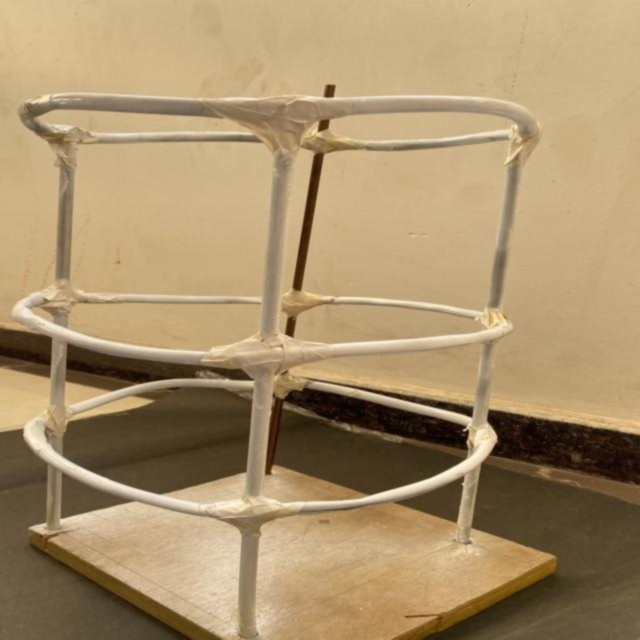silo: (6, 81, 549, 640)
